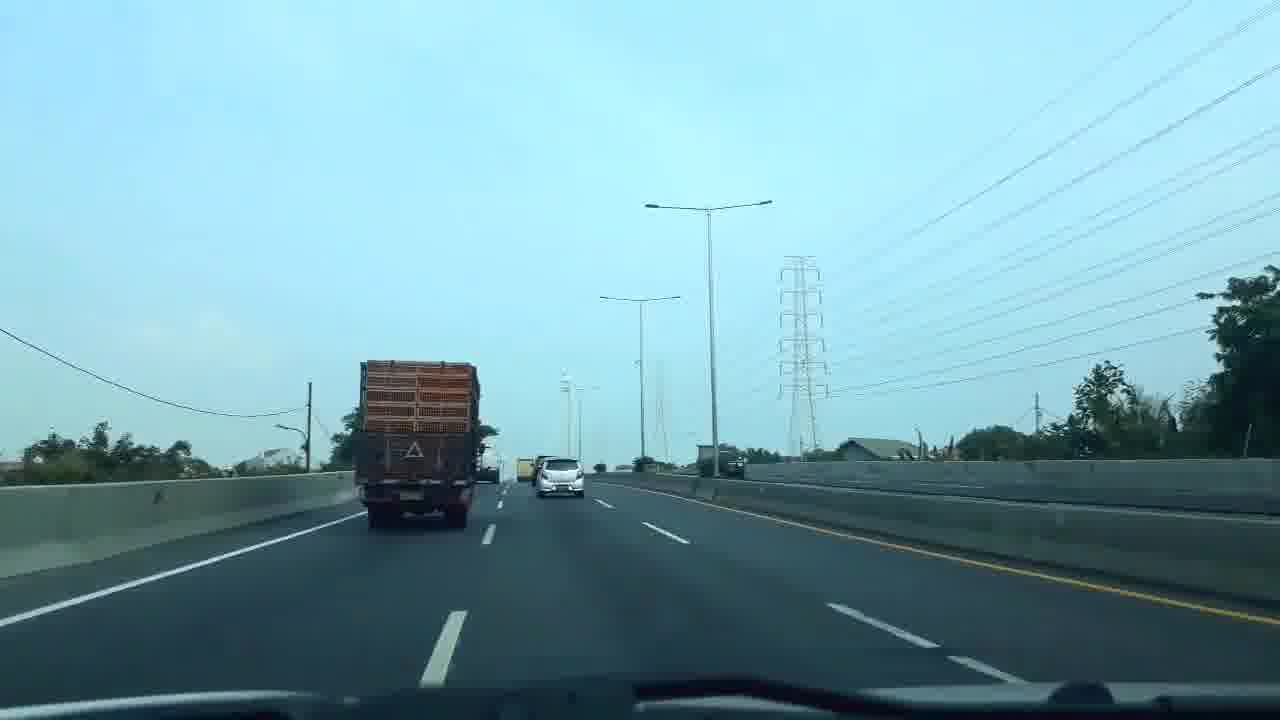plate_positive: (400, 491, 425, 502), (555, 485, 569, 490)
